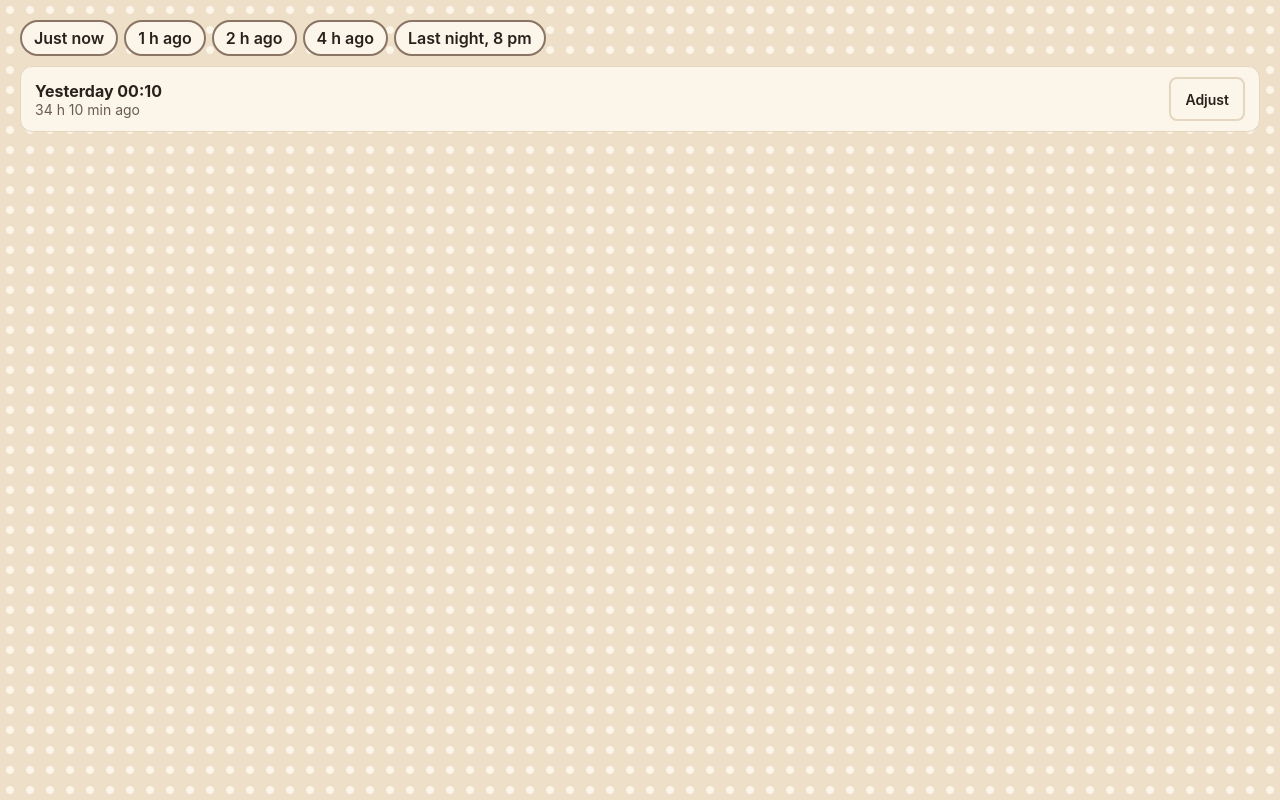
Test: feed time picker › cannot go back past the start of yesterday, and says so
The width and height of the screenshot is (1280, 800).
Click the button "Adjust": click(1207, 99) [1169,77,1245,121]
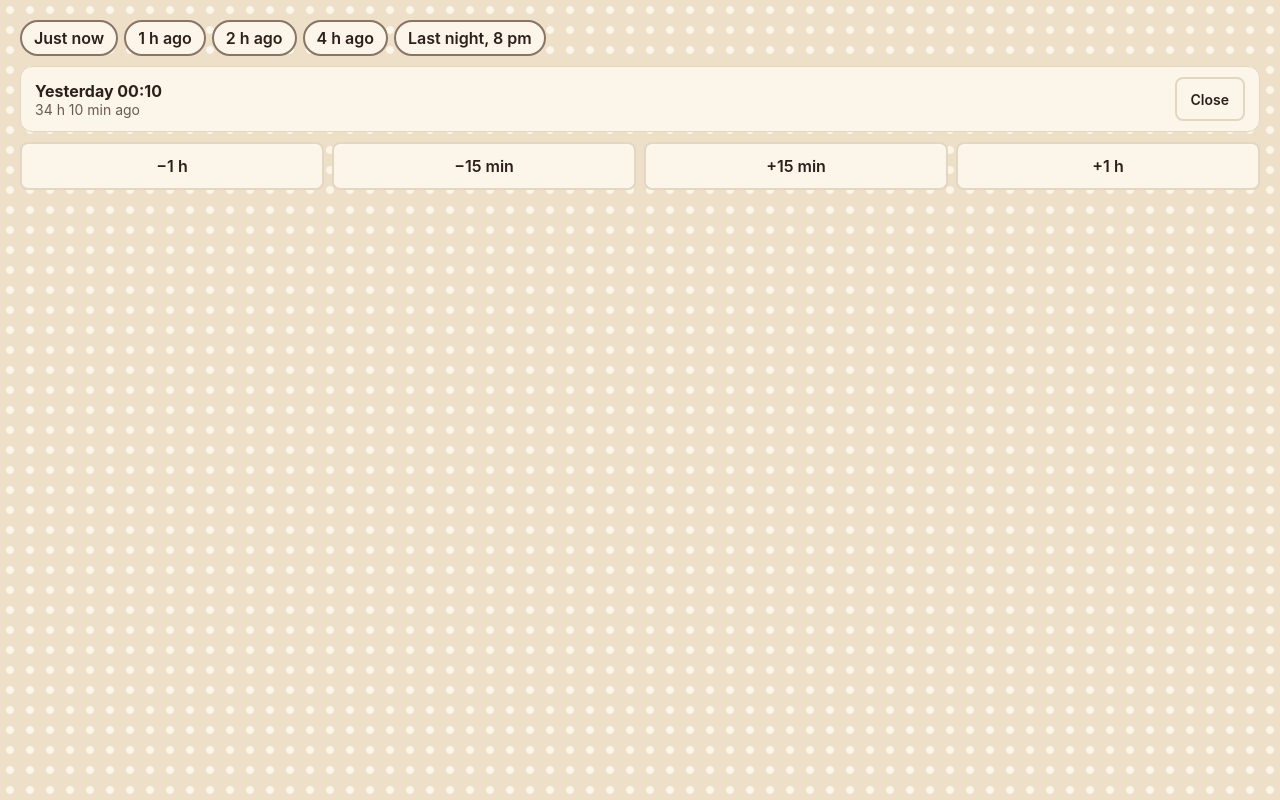
Click the button named "One hour earlier": click(172, 166) [20,142,324,190]
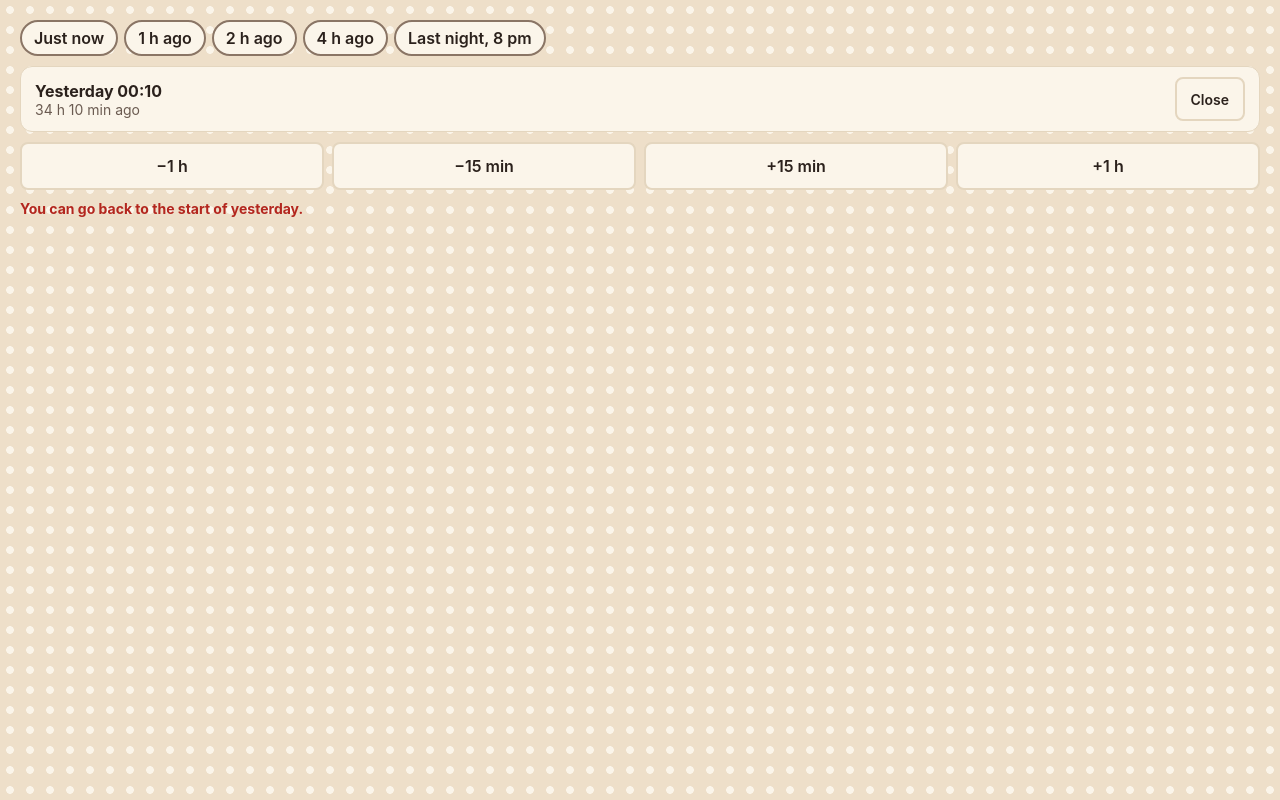
Expected: the message "Yesterday 00:10 34 h 10 min ago Close" is shown, [20,66,1260,132]
Expected: the message "You can go back to the start of yesterday." is shown, [20,200,303,217]
